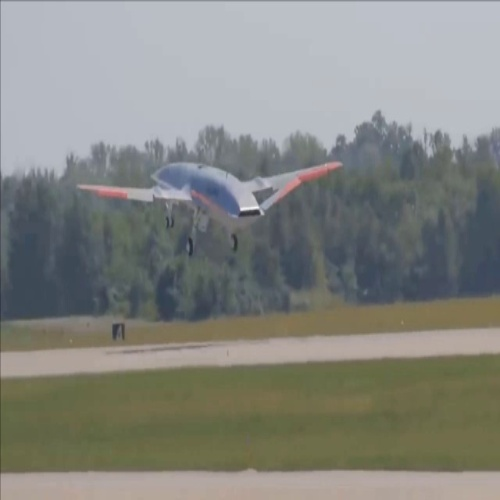uav: (72, 157, 344, 261)
